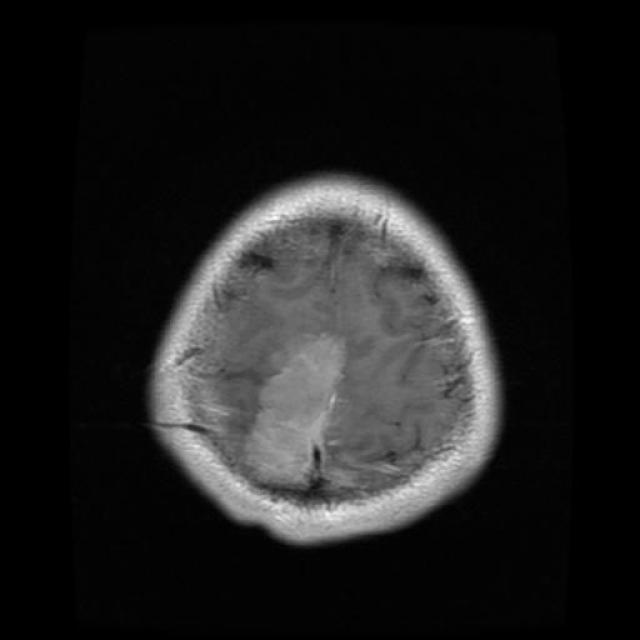Tumor: (252, 330, 344, 491)
